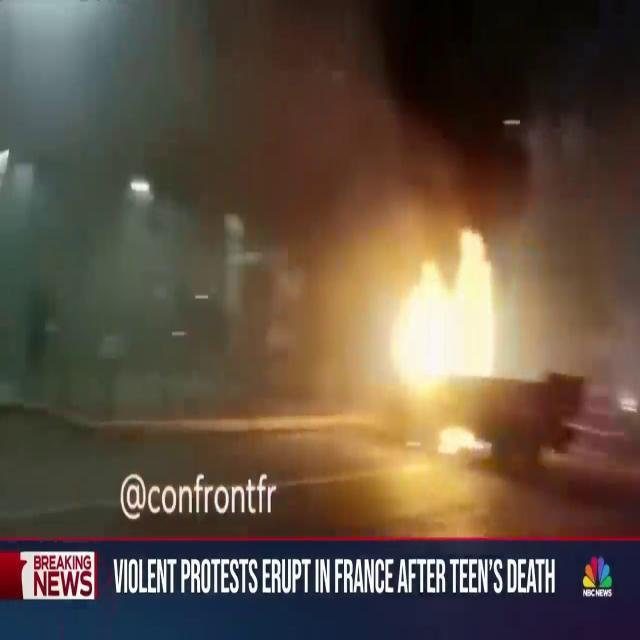Fire: (365, 220, 542, 402)
Smoke: (0, 0, 440, 454), (505, 3, 640, 397)
